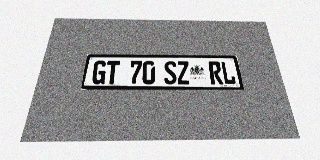0: (142, 61, 155, 84)
7: (128, 61, 142, 84)
G: (91, 61, 107, 84)
L: (220, 61, 236, 84)
R: (208, 61, 223, 84)
S: (164, 61, 177, 84)
T: (105, 61, 120, 84)
Z: (176, 61, 190, 84)
